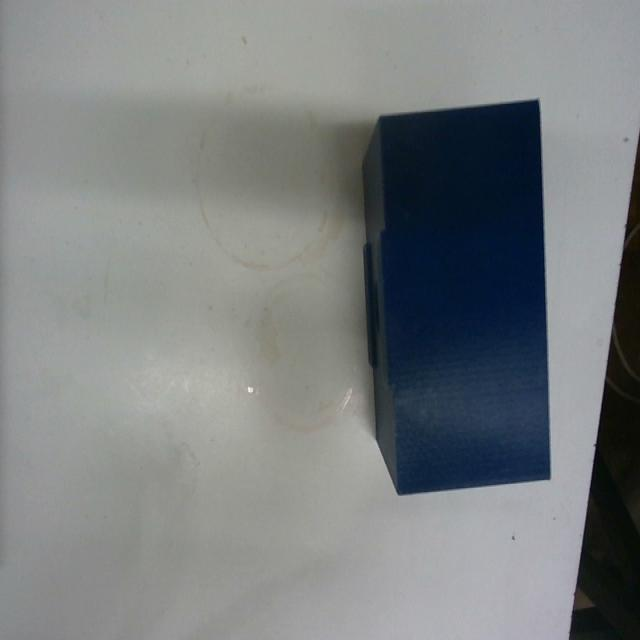Blue Cuboid: (358, 95, 553, 496)
